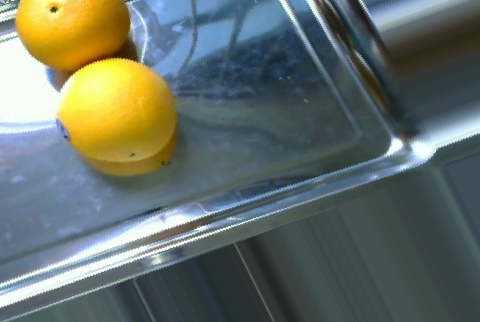Orange: (55, 58, 175, 163), (14, 1, 130, 74)
